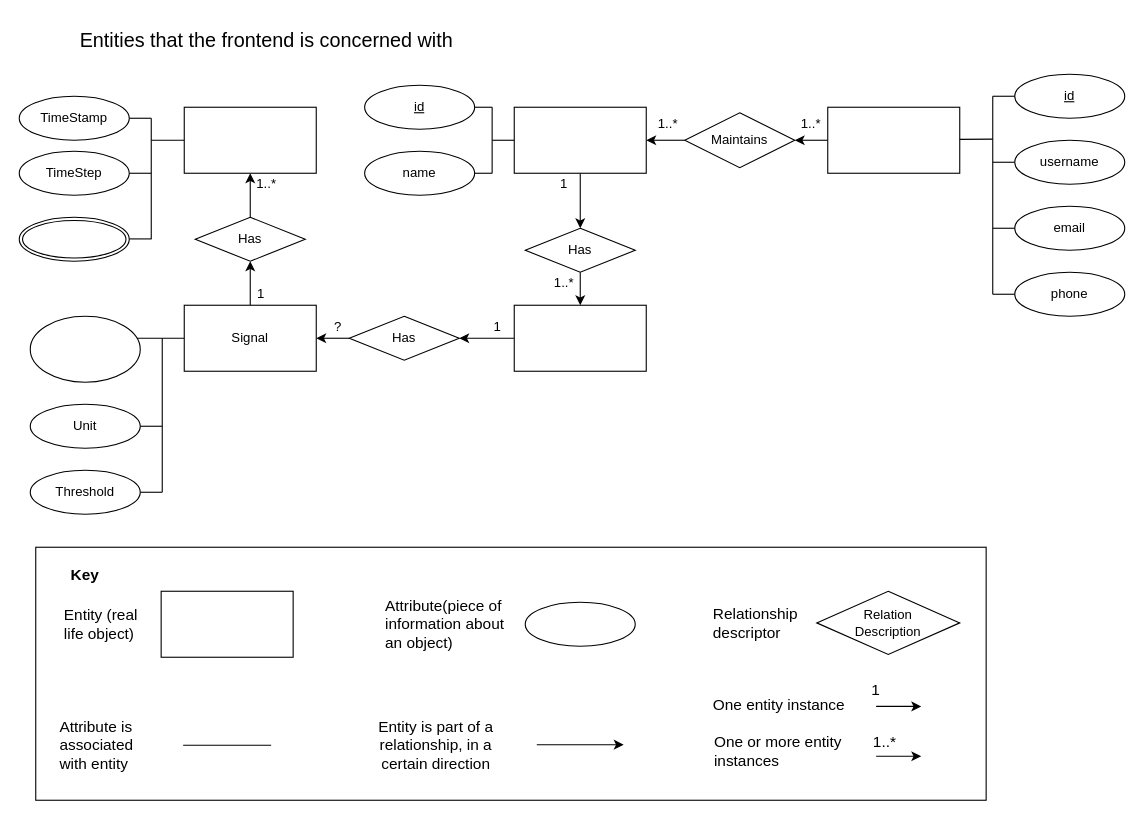
Image size: 1144x820. Some labels were removed from this diagram. The centre of each missing label's shape, as x and y in pixels:
"AttributeName" goes at (579,623).
"EntityName" goes at (226,623).
"Machine" goes at (579,139).
"SampleChunk" goes at (249,139).
"Samples" goes at (73,238).
"Sensor" goes at (579,337).
"SignalType (FFT, RMS)" goes at (84,348).
"User (Technician)" goes at (893,139).
